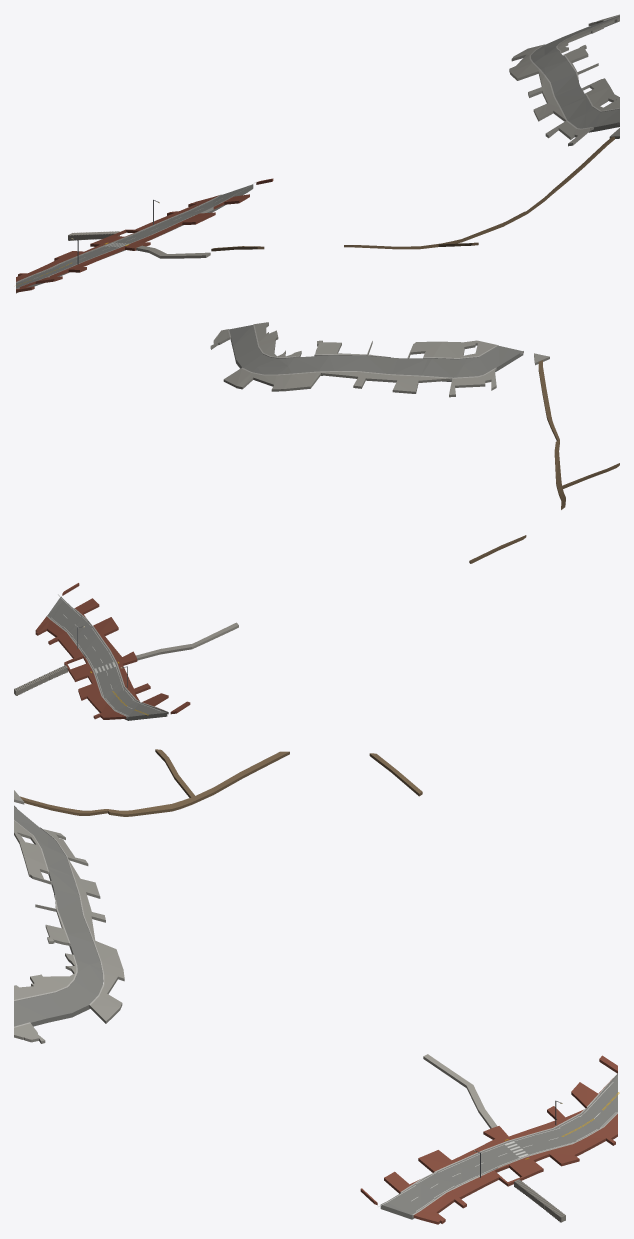
3 views of the same model, one above another, from view 1: azimuth 90°, elevation 25°; view 2: azimuth 150°, elevation 25°; view 3: azimuth 270°, elevation 25° (orthographic). The views are drawn at different scales.
Size of the model in its own units: 148 by 71.24 by 146.
